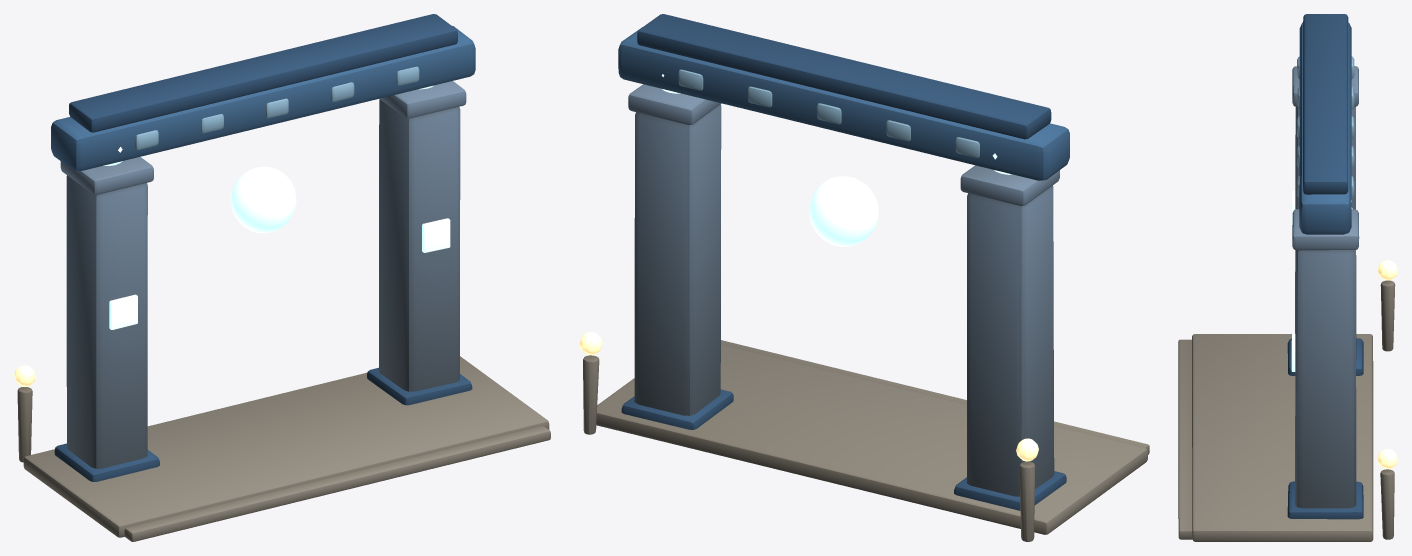
The picture shows the model from 3 angles, left to right: view 1: azimuth 30°, elevation 25°; view 2: azimuth 150°, elevation 25°; view 3: azimuth 270°, elevation 25°; orthographic projection. The views are drawn at different scales.
Visible parts, largest first — view 1: gate_ec39071e; view 2: gate_ec39071e; view 3: gate_ec39071e.
Part boxes in pixels (<box>): gate_ec39071e: <box>14,14,550,541</box>; gate_ec39071e: <box>579,14,1149,541</box>; gate_ec39071e: <box>1178,14,1397,541</box>.
Bounding box in the file's own units: 5.44 × 4.45 × 2.54.
